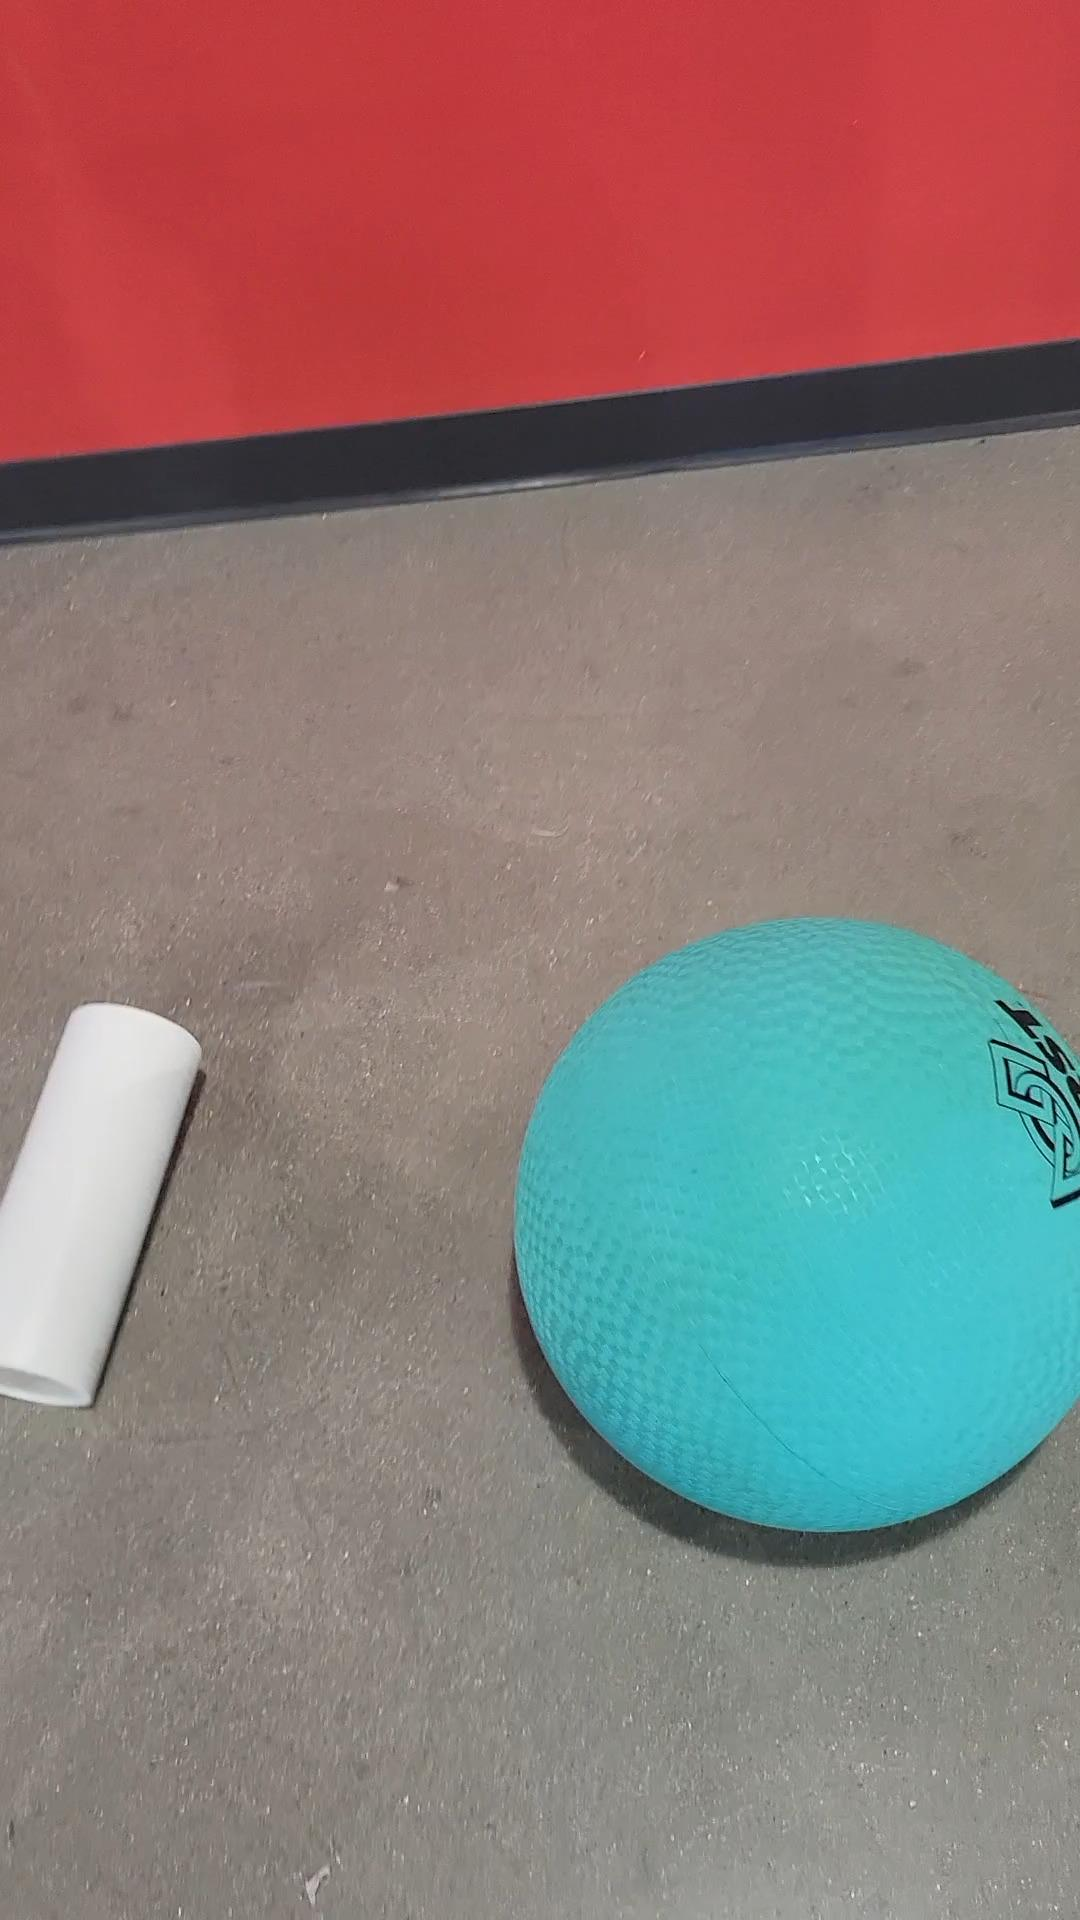algae: (481, 906, 1080, 1585)
coral: (0, 961, 211, 1436)
